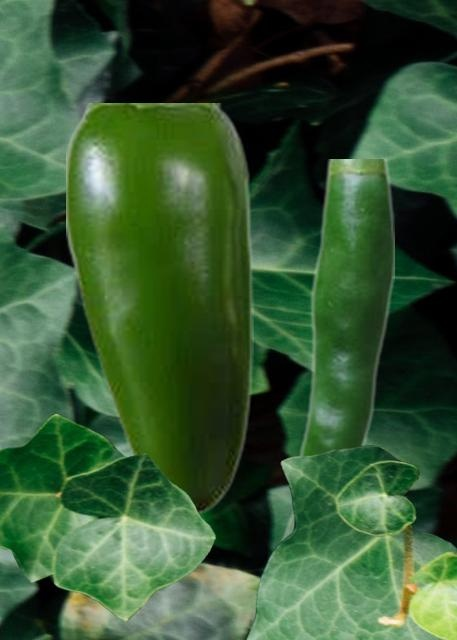green_chili: (66, 103, 252, 517), (248, 159, 393, 631)
